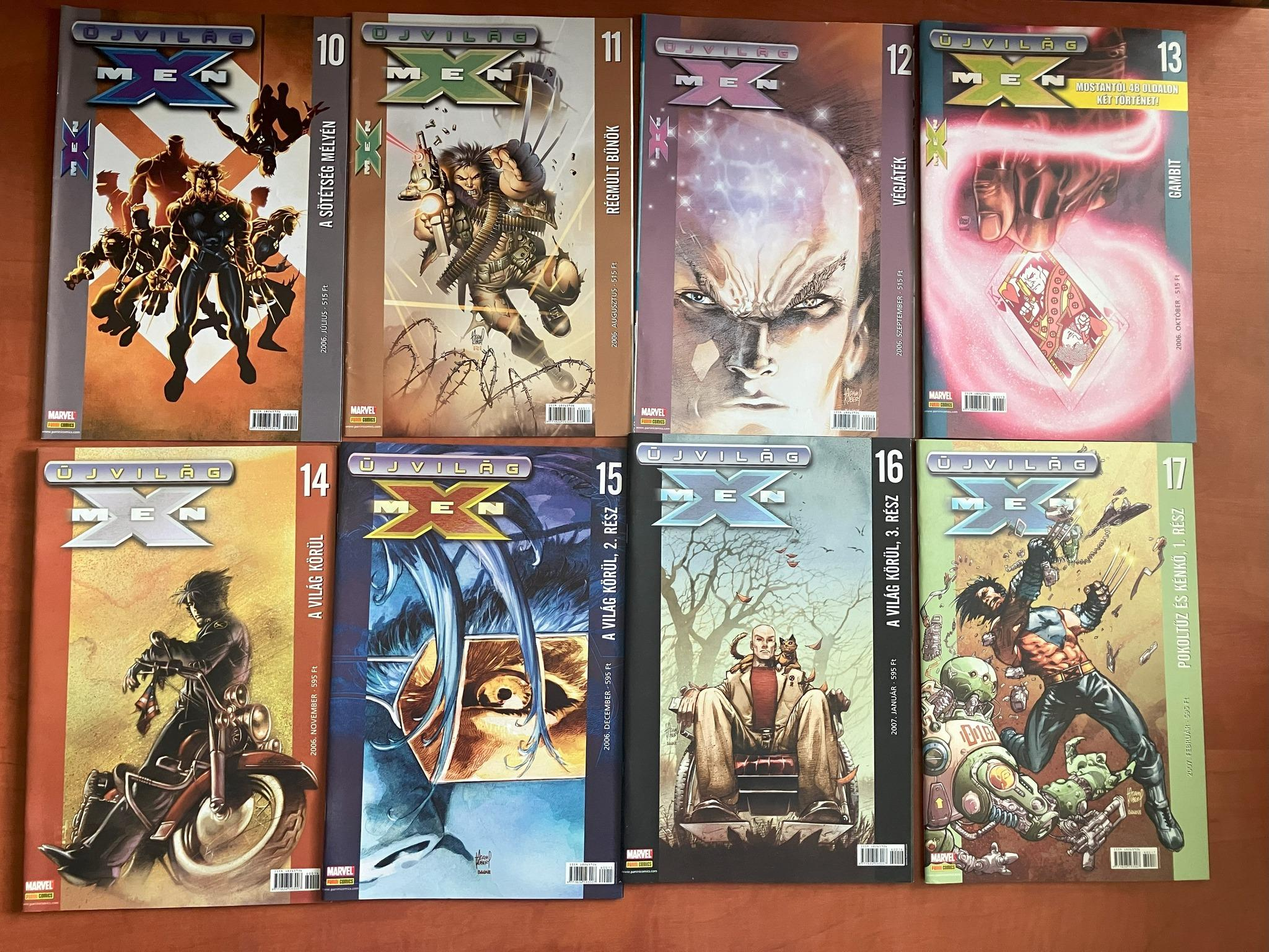comic: (21, 435, 337, 920), (324, 441, 626, 899), (43, 6, 352, 447), (623, 434, 918, 885), (914, 435, 1208, 885), (344, 12, 639, 444), (633, 15, 923, 438), (918, 19, 1195, 444)
